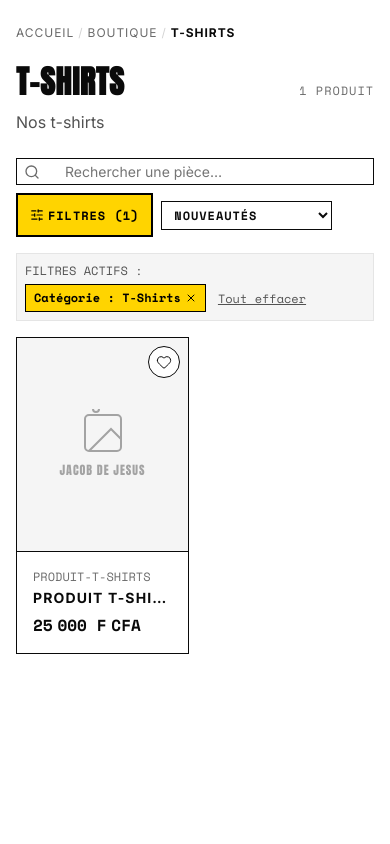
ShopPage Navigation & Category Filter (BUG 2) › affiche le compteur à jour dans le panneau mobile 'Voir les résultats (n)'
The width and height of the screenshot is (390, 844).
Step 1. Click the button "FILTRES (1)" → (85, 215), box x1=16 y1=193 x2=153 y2=237
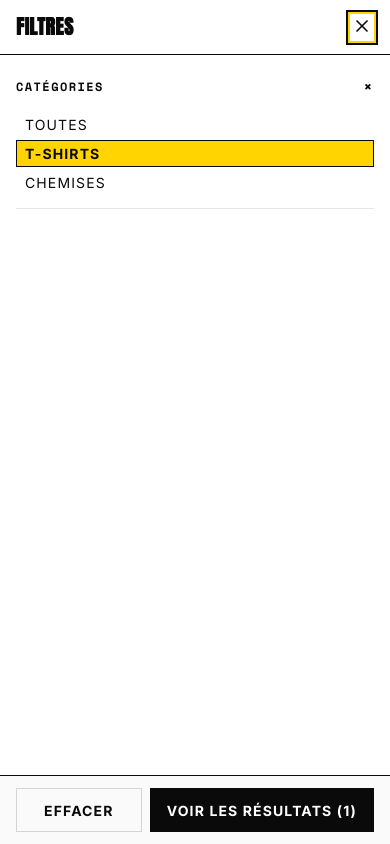
Expected: the button "Voir les résultats (1)" is shown, x1=150 y1=788 x2=374 y2=832
